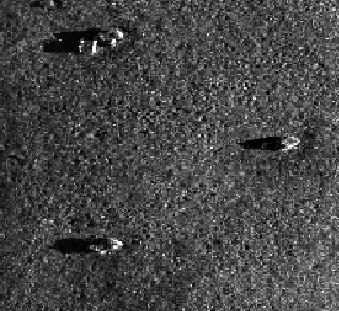mine: (41, 26, 126, 57), (48, 235, 124, 256), (239, 134, 301, 152)
